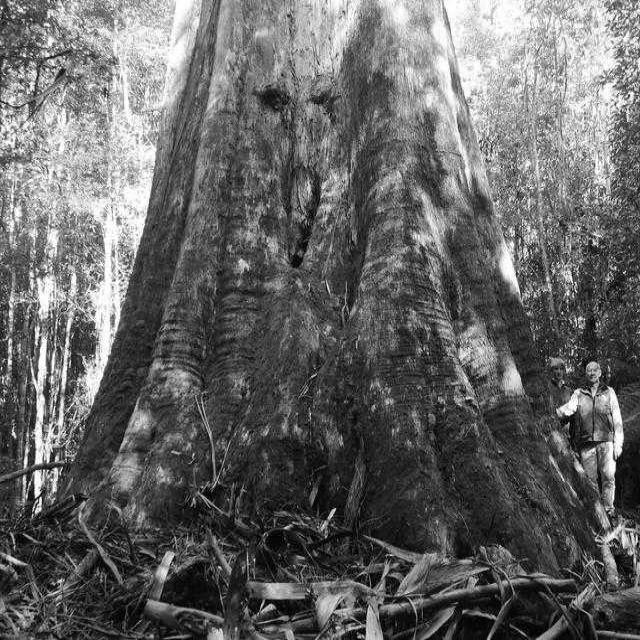Tree: (70, 0, 609, 573)
